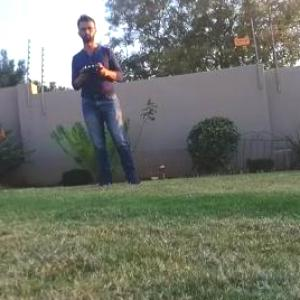follow: (68, 8, 149, 190)
